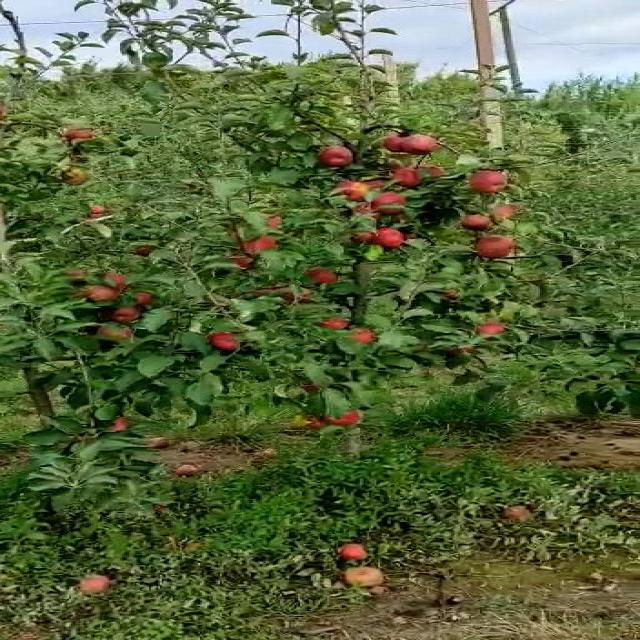100-_ripeness: (368, 191, 417, 217), (334, 179, 384, 202), (466, 168, 508, 195), (204, 329, 247, 355), (398, 133, 444, 157), (318, 402, 358, 429), (472, 233, 514, 258), (300, 267, 340, 290), (91, 324, 134, 345), (318, 142, 355, 166), (78, 286, 122, 305), (373, 227, 409, 250), (471, 318, 509, 339), (243, 234, 274, 258), (464, 215, 498, 233), (349, 326, 373, 348), (386, 131, 406, 153)
